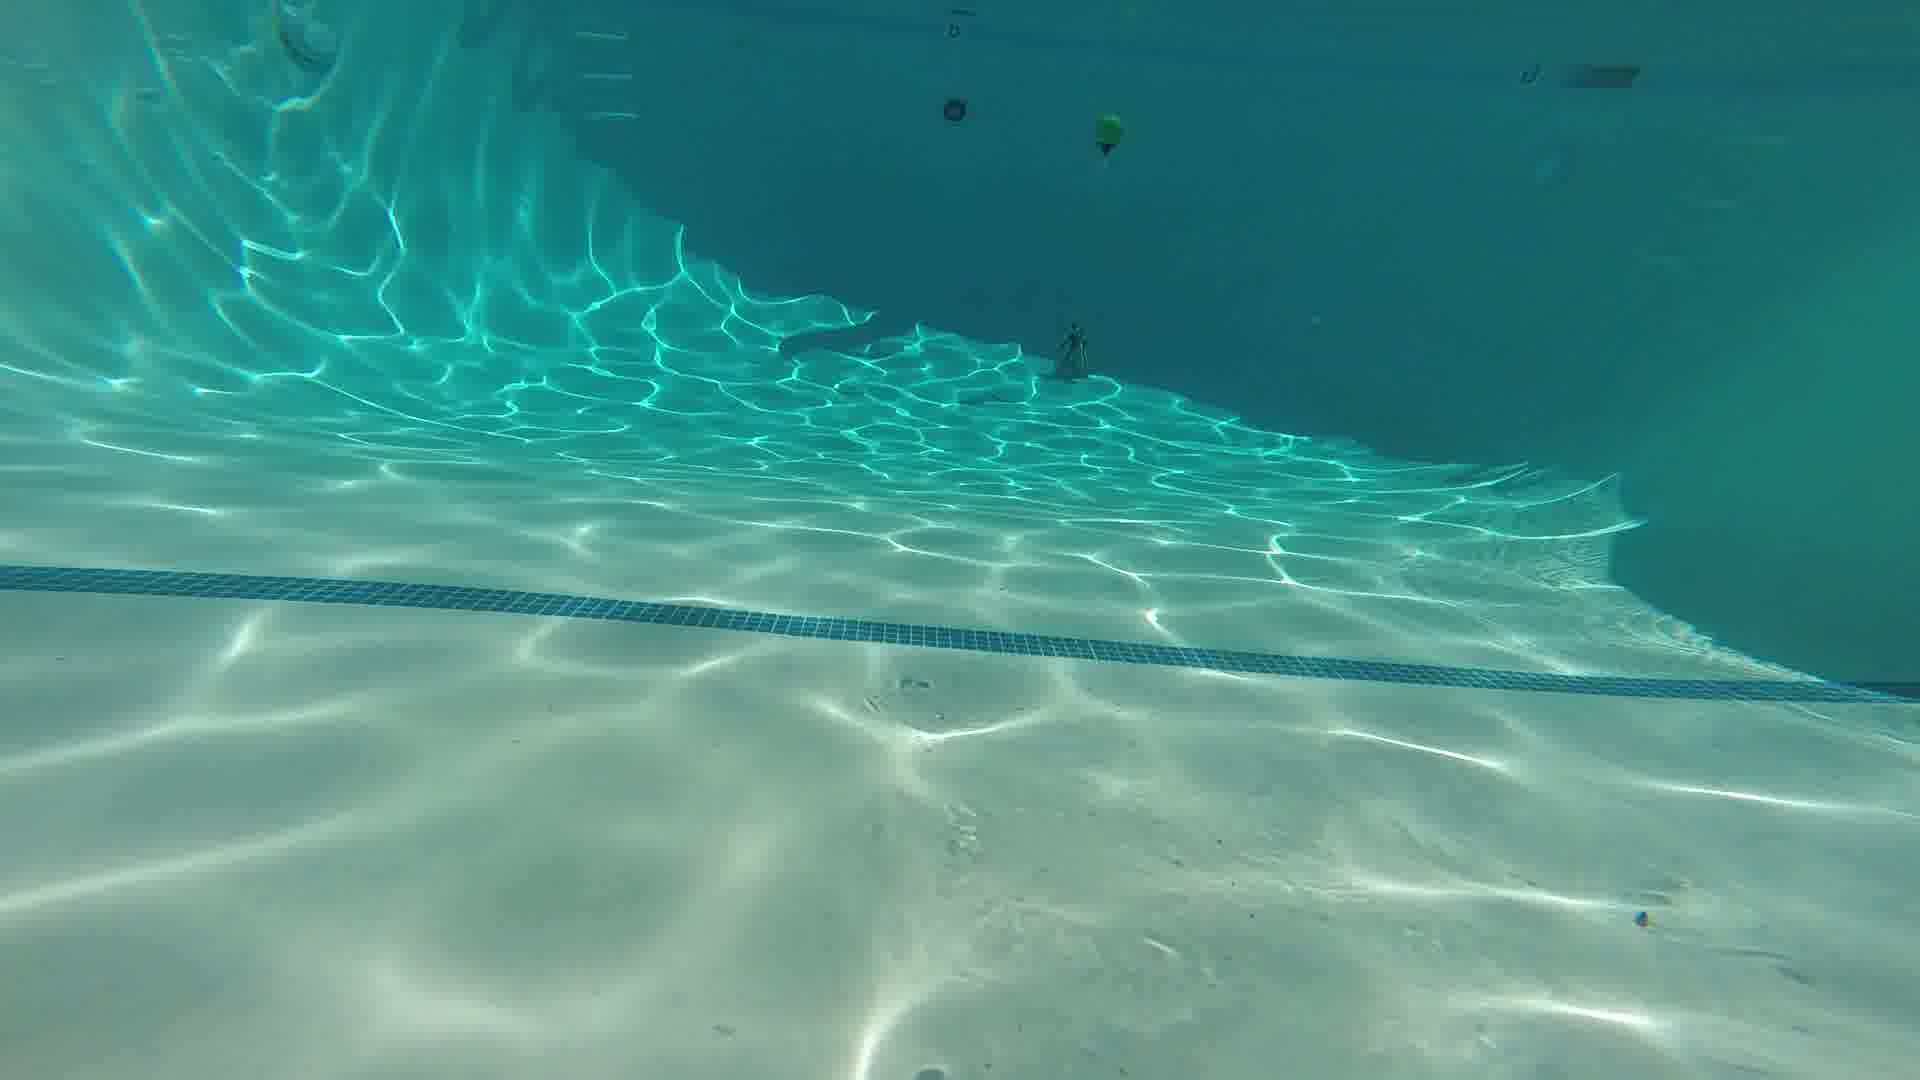yellow_buoy: (1088, 105, 1131, 158)
